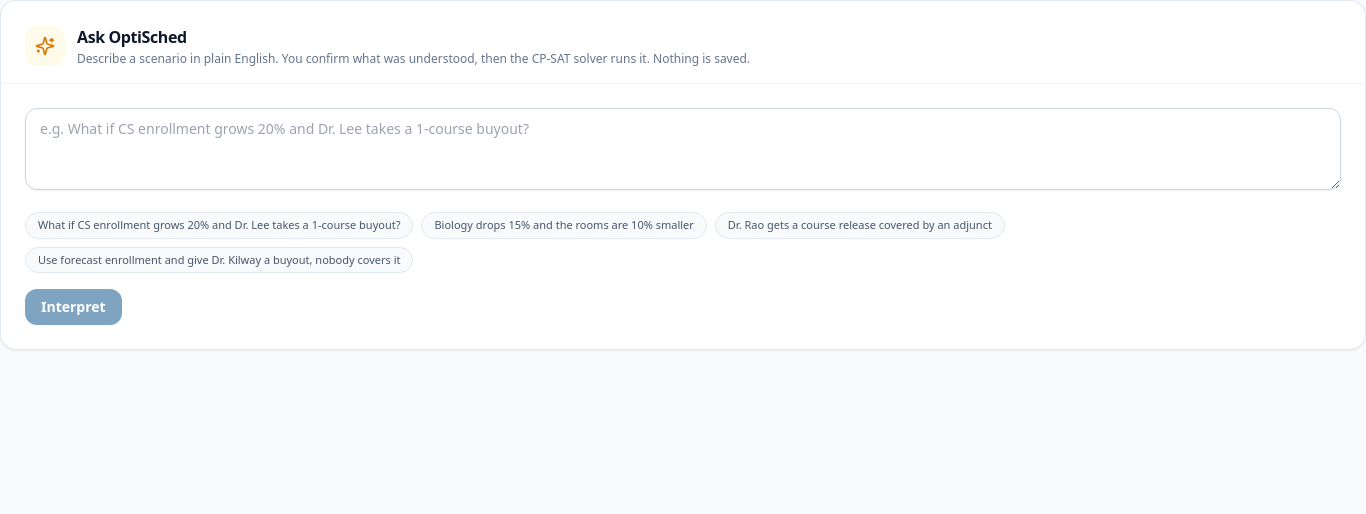
Test: AskOptiSched › labels a Claude result and surfaces disagreement with the rule-based parser
Replace the text in the text box with test id "ask-prompt" with "CS grows 20% and Dr. Lee takes a buyout". click: (683, 149)
box: [25,108,1341,190]
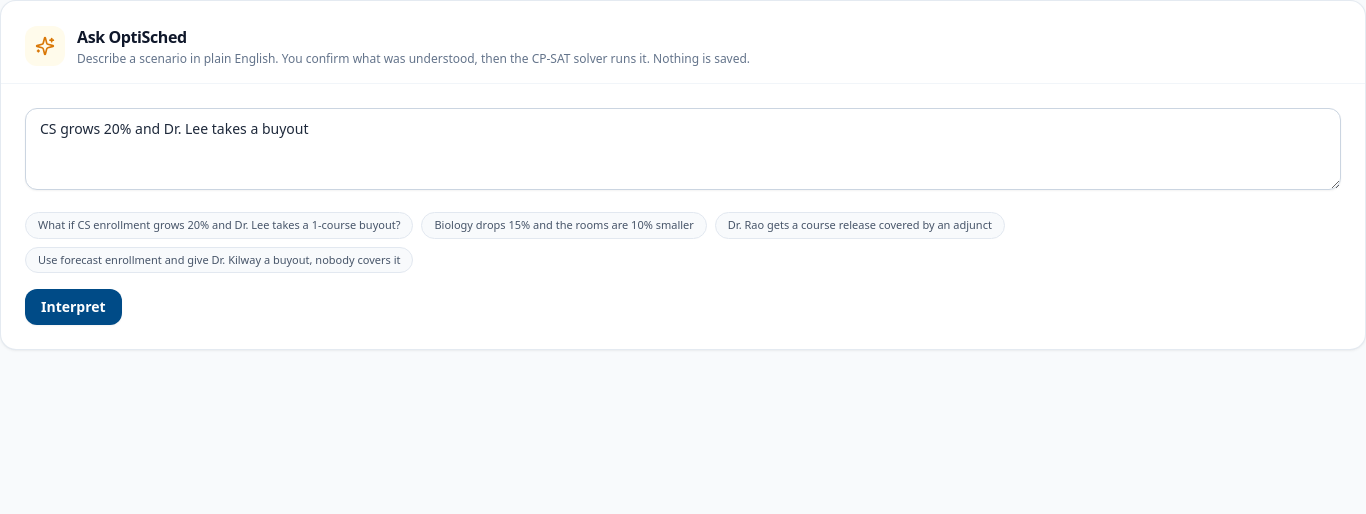
Click the button with test id "ask-interpret". click: (73, 307)
box: [25,289,122,325]
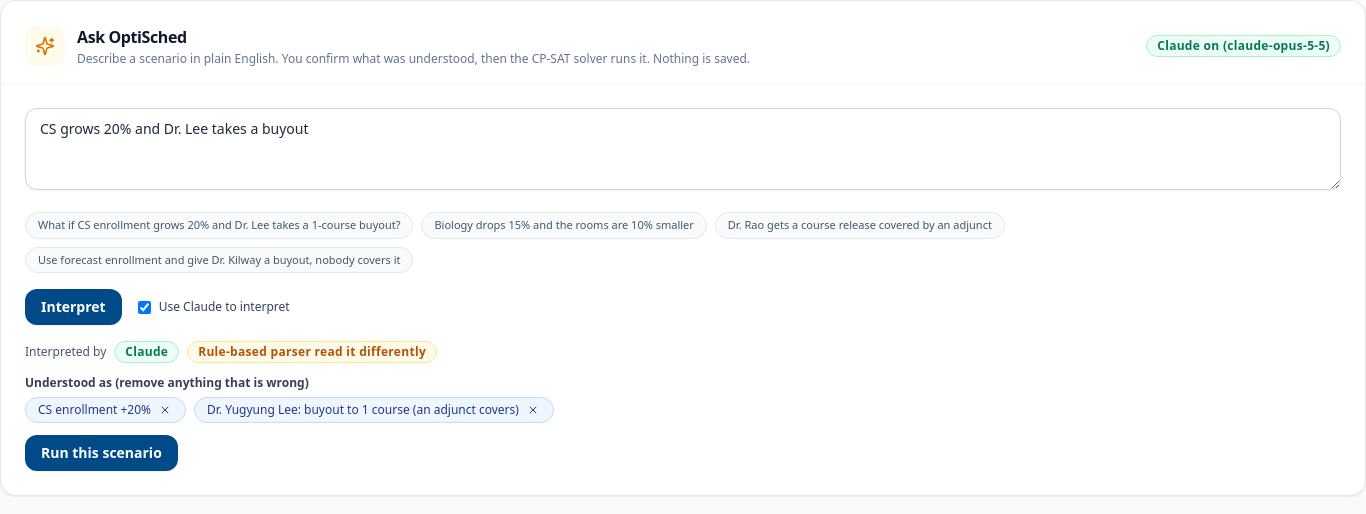
Now the element with test id "ask-parsed" is shown, box [25,341,554,471]
Now the text with test id "parser-badge" reads "Claude", box [125,343,168,360]
Now the text "Rule-based parser read it differently" is shown, box [187,341,437,363]
